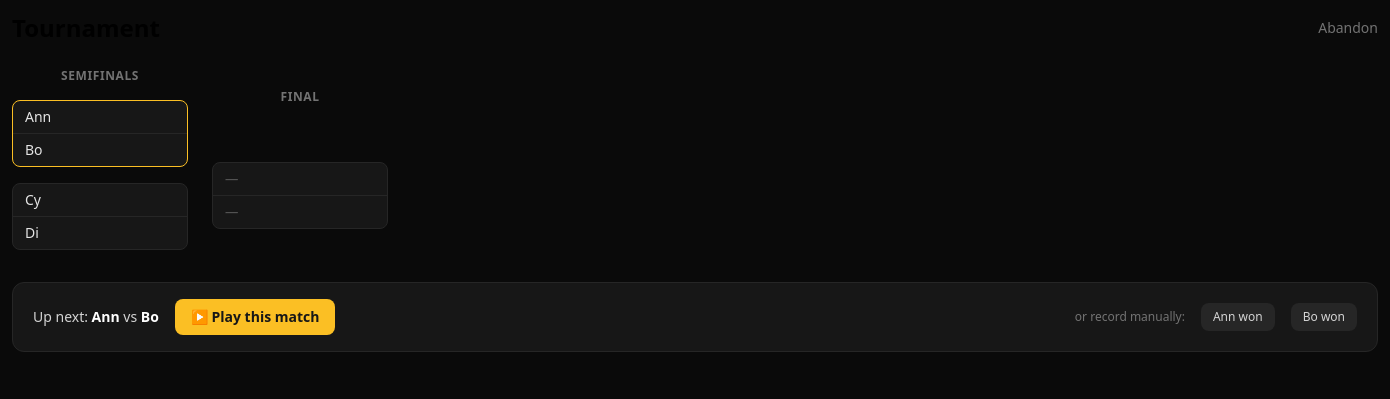
Test: Tournament play › manual winner buttons advance the bracket to a champion
Click the button with aria-label "mark Ann as winner" at point(1238, 317), box [1201,303,1275,331]
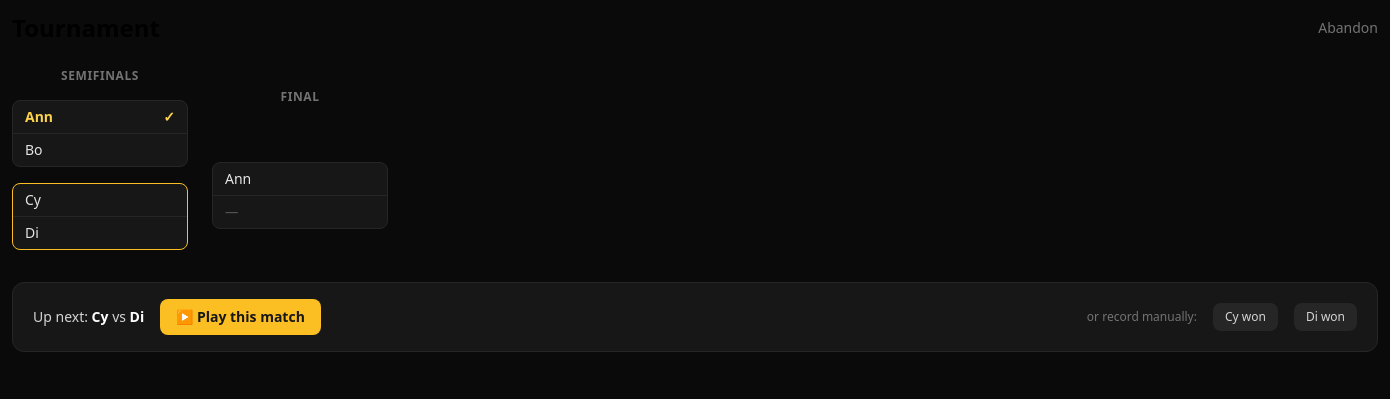
Click the button with aria-label "mark Cy as winner" at point(1246, 317), box [1213,303,1278,331]
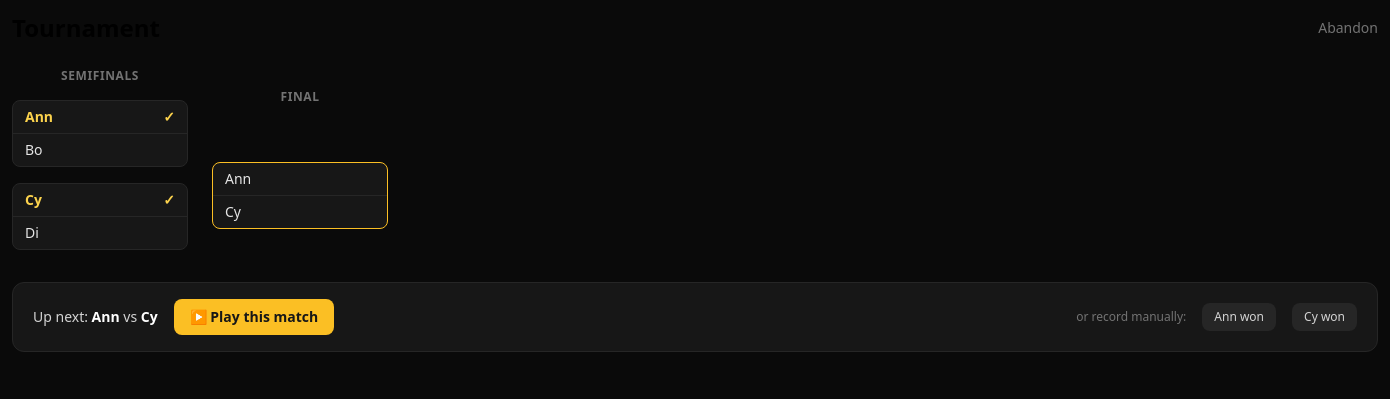
Click the button with aria-label "mark Ann as winner" at point(1239, 317), box [1202,303,1276,331]
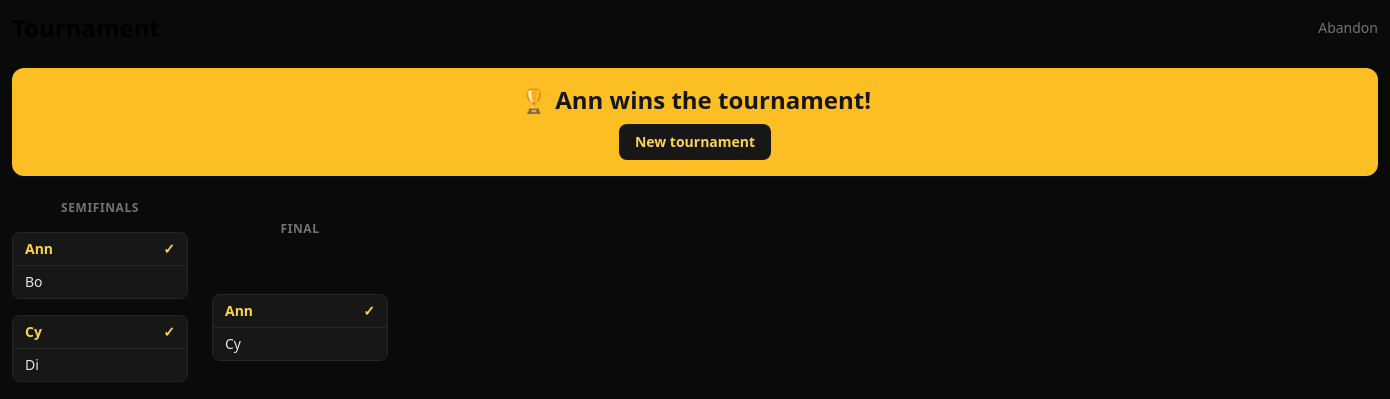
Check: the message shows "Ann wins the tournament", box [12,68,1378,176]
